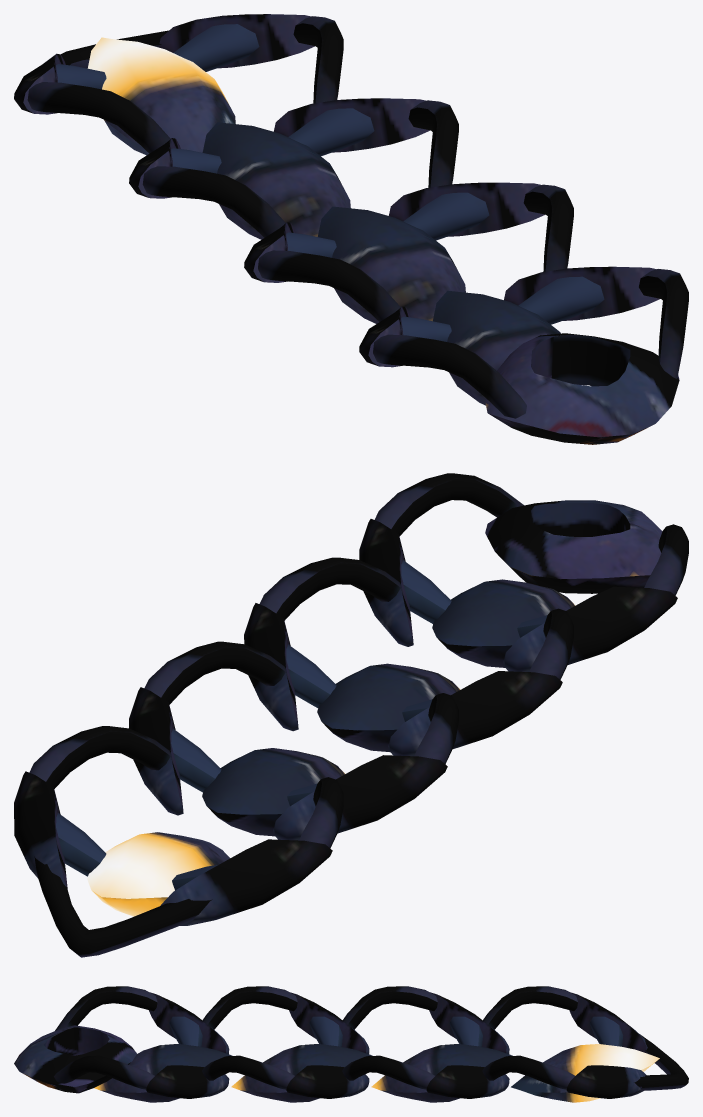
File: ship18h.fbx
3 renders of one model, top to bottom at view 1: azimuth 30°, elevation 25°; view 2: azimuth 150°, elevation 25°; view 3: azimuth 270°, elevation 25°, orthographic. The views are drawn at different scales.
Visible parts, largest first — view 1: PipelineFBX; view 2: PipelineFBX; view 3: PipelineFBX.
Part boxes in pixels (x1,y1,x2,y2): PipelineFBX: [14, 14, 688, 444]; PipelineFBX: [14, 473, 688, 957]; PipelineFBX: [14, 986, 688, 1102].
Size of the model in its own units: 75.17 by 28.54 by 233.
Materials: 1 (1 with a texture image).
